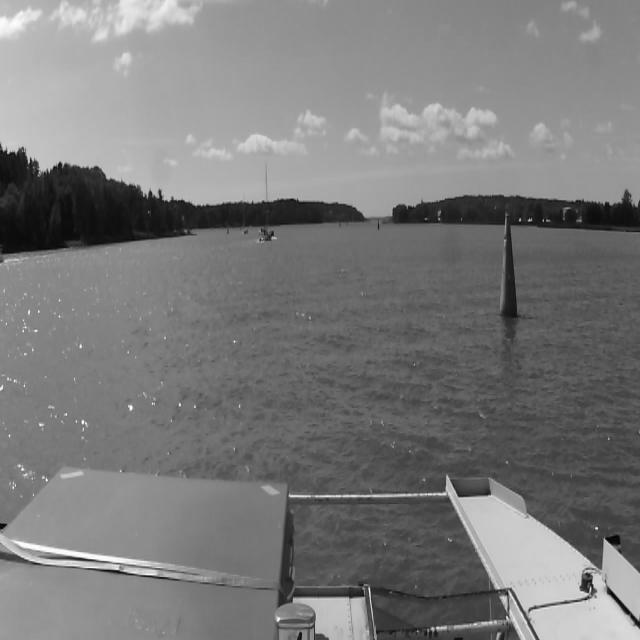buoy: (498, 212, 518, 318), (227, 225, 229, 235), (378, 220, 380, 230)
ship: (259, 163, 273, 241), (243, 192, 247, 234)
